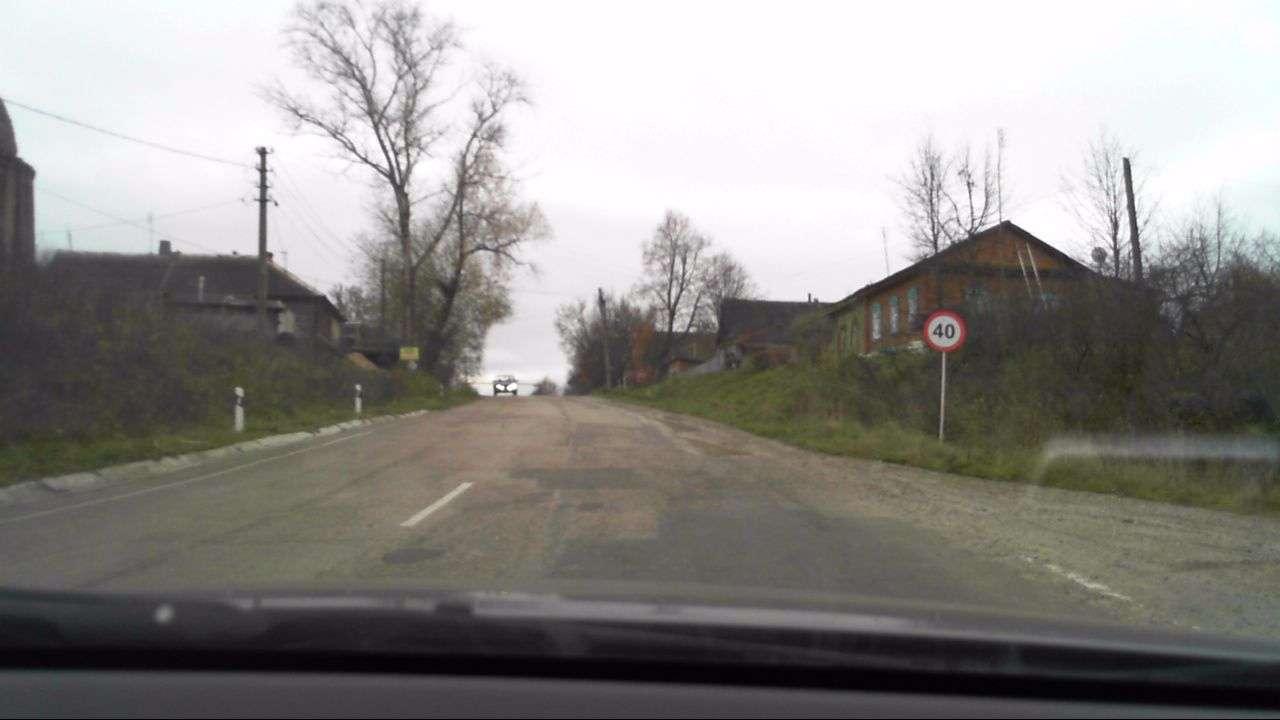speed_warning_40: (922, 310, 967, 351)
